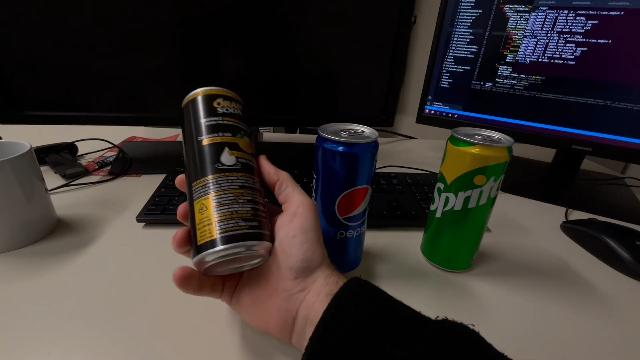OranSoda: (180, 84, 276, 276)
Pepsi: (309, 121, 381, 277)
Sprite: (419, 124, 515, 276)
